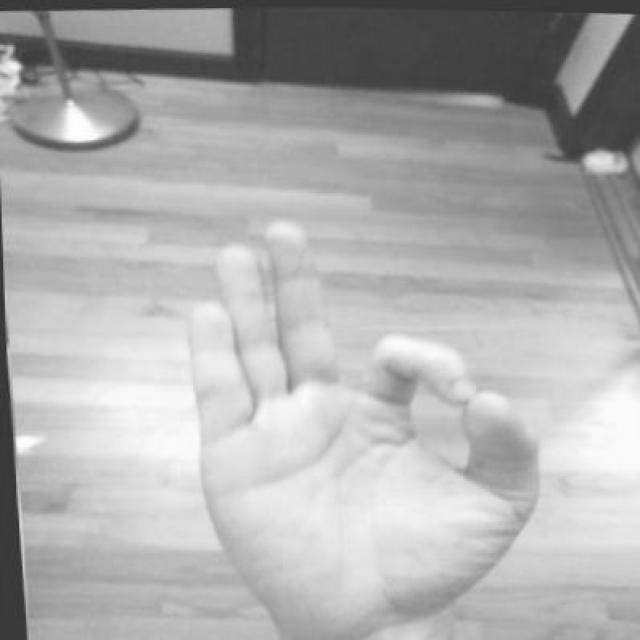F: (164, 200, 558, 638)
